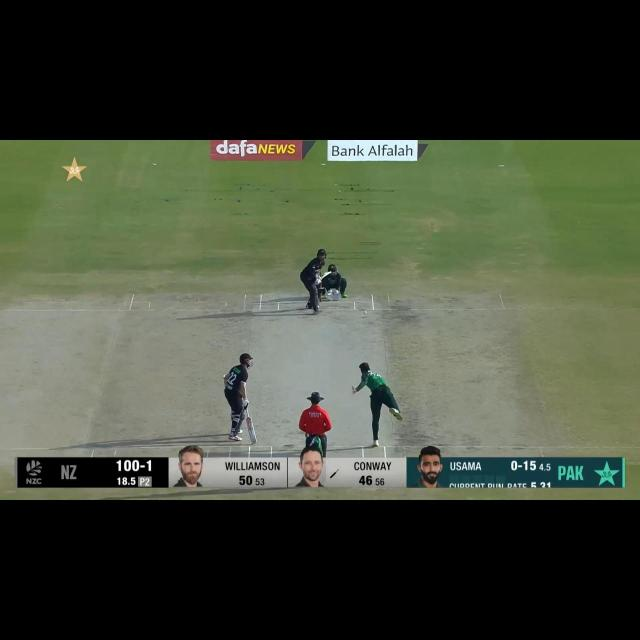bat: (246, 416, 258, 446), (318, 269, 333, 281)
toe: (249, 436, 257, 446), (326, 270, 332, 276)
